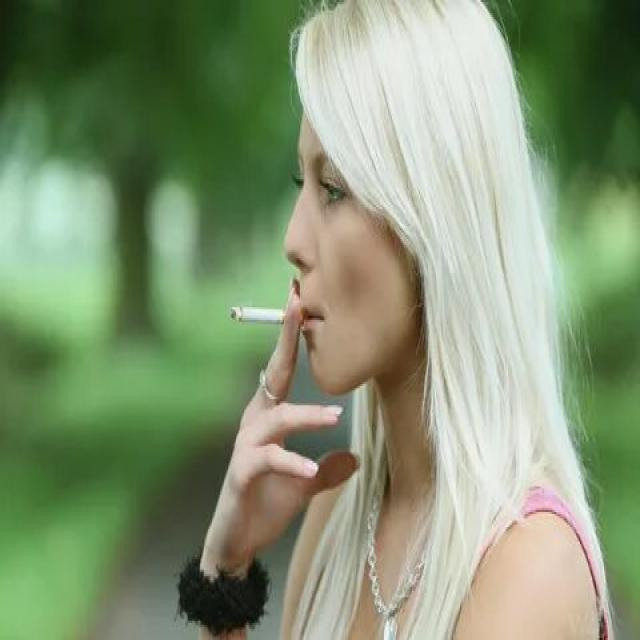smoke: (228, 298, 307, 332)
